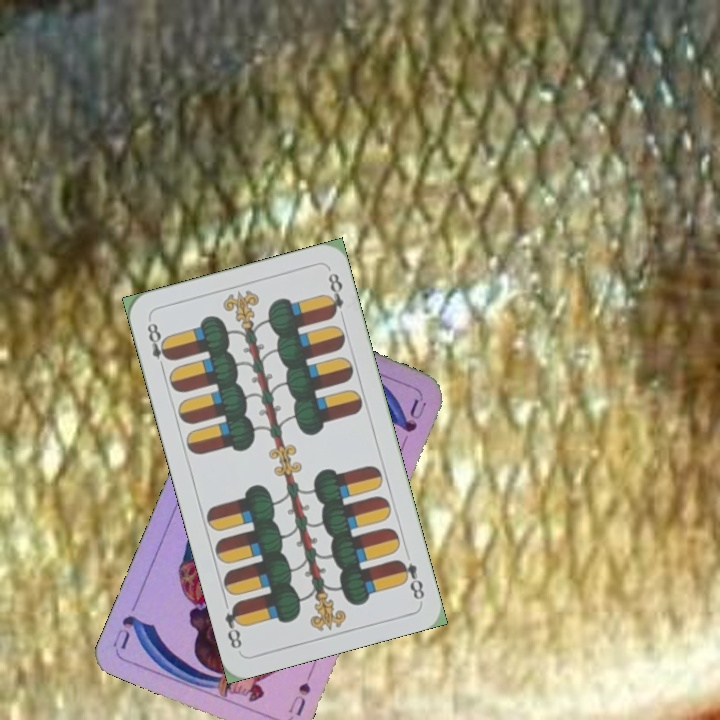E8: (142, 319, 174, 374), (393, 555, 427, 602)
SU: (284, 678, 314, 719)
